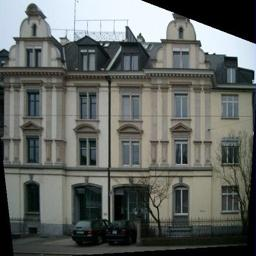building: (0, 20, 256, 234)
